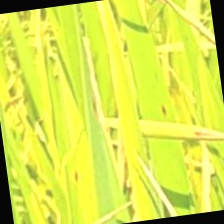Leaf_Blast: (115, 1, 128, 200)
